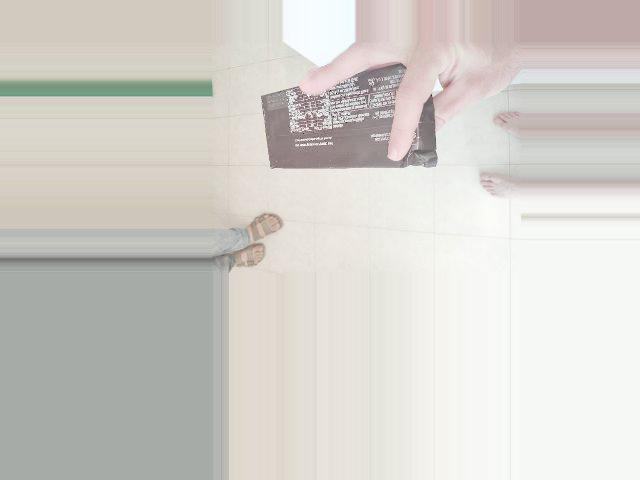chocolate: (315, 90, 424, 272)
